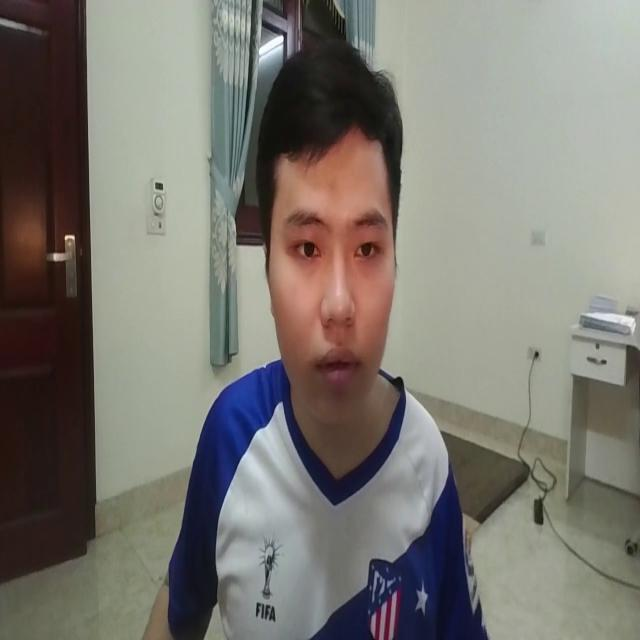student: (145, 24, 496, 640)
